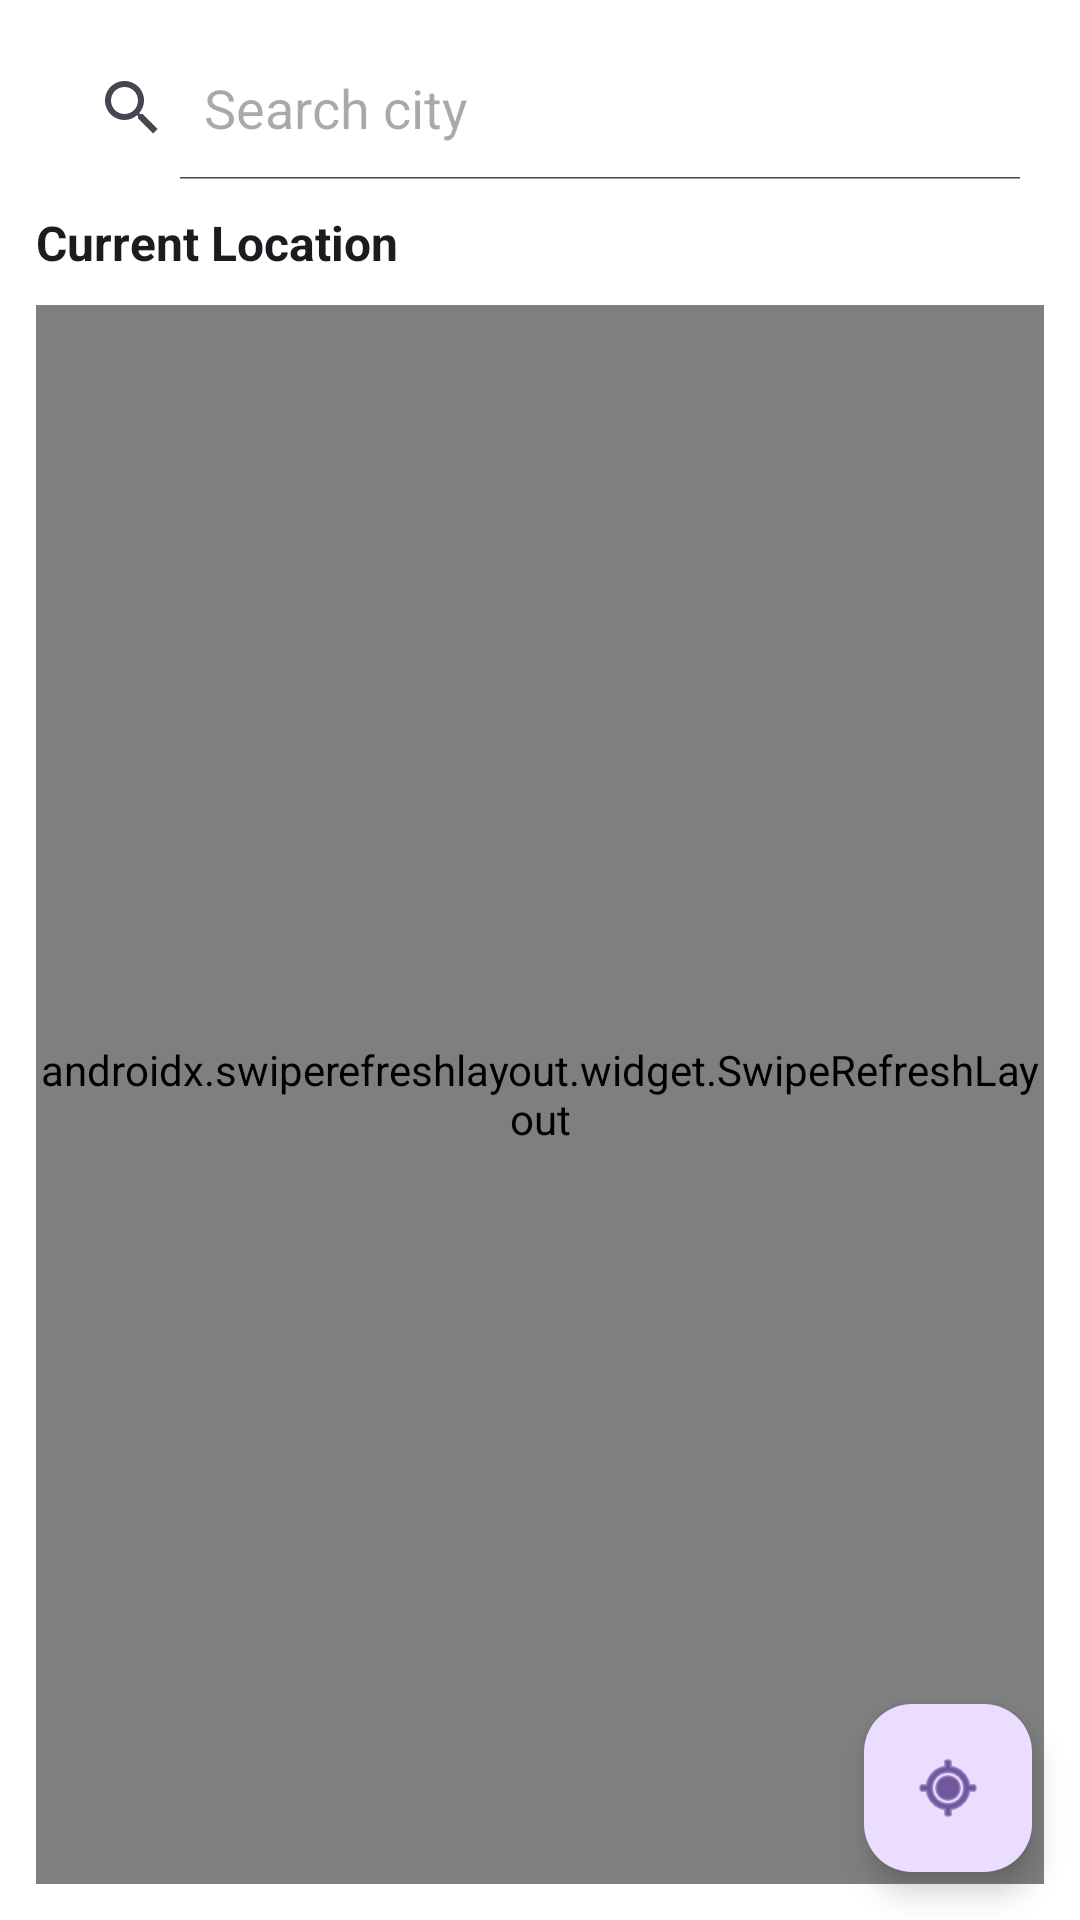

Locate icon controls on the screen. Image size 1080 × 1920, boxes as (x1, y1, x2, y2).
mylocation: (864, 1704, 1032, 1872)
